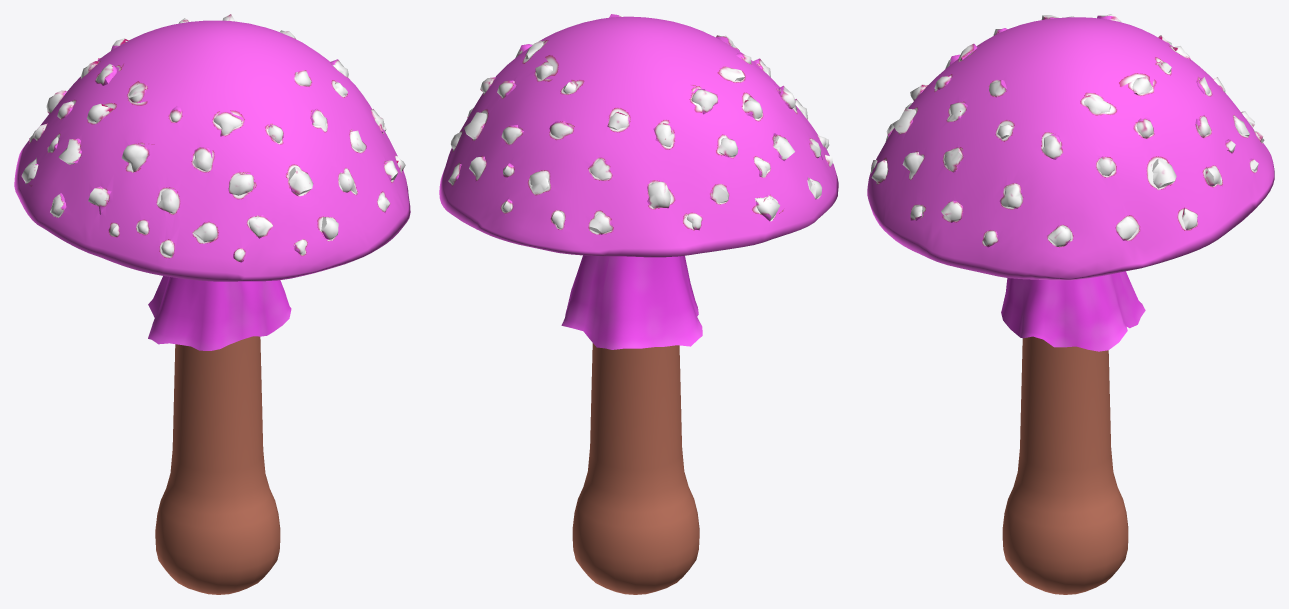
Rendered from pruebaColor4.glb.
The picture shows the model from 3 angles, left to right: view 1: azimuth 30°, elevation 25°; view 2: azimuth 150°, elevation 25°; view 3: azimuth 270°, elevation 25°; orthographic projection.
Visible parts, largest first — view 1: Malla, Malla_2, Malla_1; view 2: Malla, Malla_2, Malla_1; view 3: Malla, Malla_2, Malla_1.
Boxes of the visible parts, x1=… form: Malla: x1=14, y1=14, x2=410, y2=281; Malla_2: x1=155, y1=336, x2=280, y2=594; Malla_1: x1=148, y1=276, x2=291, y2=350; Malla: x1=439, y1=14, x2=838, y2=257; Malla_2: x1=572, y1=343, x2=699, y2=594; Malla_1: x1=561, y1=255, x2=702, y2=349; Malla: x1=867, y1=14, x2=1274, y2=280; Malla_2: x1=1002, y1=336, x2=1128, y2=594; Malla_1: x1=1001, y1=271, x2=1145, y2=351.
Bounding box in the file's own units: 3.99 × 6.05 × 4.
Materials: 3 (3 with a texture image).
